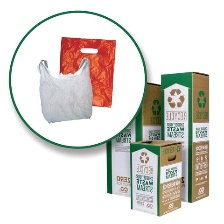plastic_bag: (52, 35, 121, 111), (31, 54, 95, 124)
